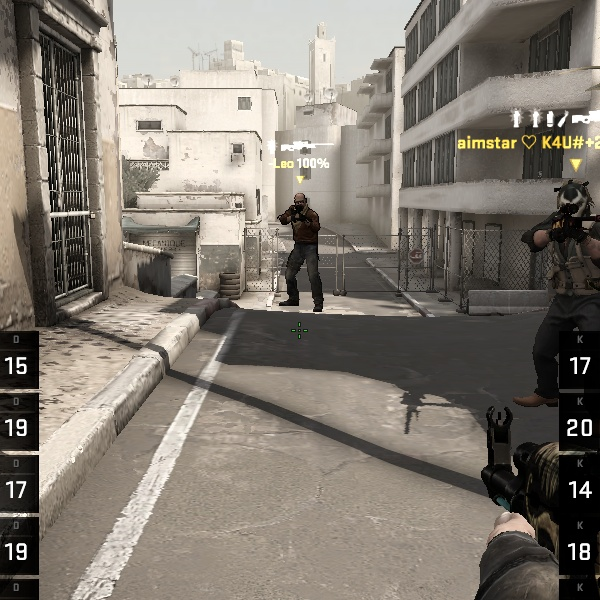t_body: (265, 188, 335, 313)
t_head: (547, 174, 597, 229)
